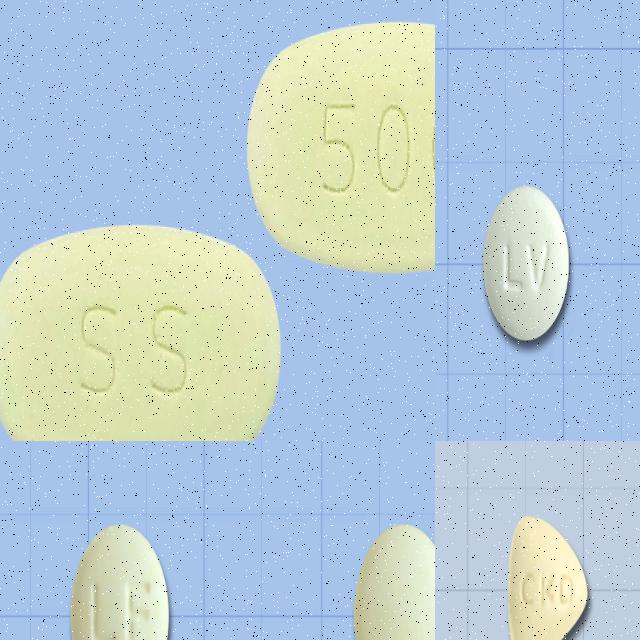Leflunomide Myungmoon -20mg: (508, 514, 589, 640)
Levofloxacin Tab- Dongsung: (69, 522, 170, 640), (353, 526, 435, 640)
Levox: (482, 186, 570, 340)
Sebivo Tab: (0, 222, 283, 441), (247, 21, 435, 270)
